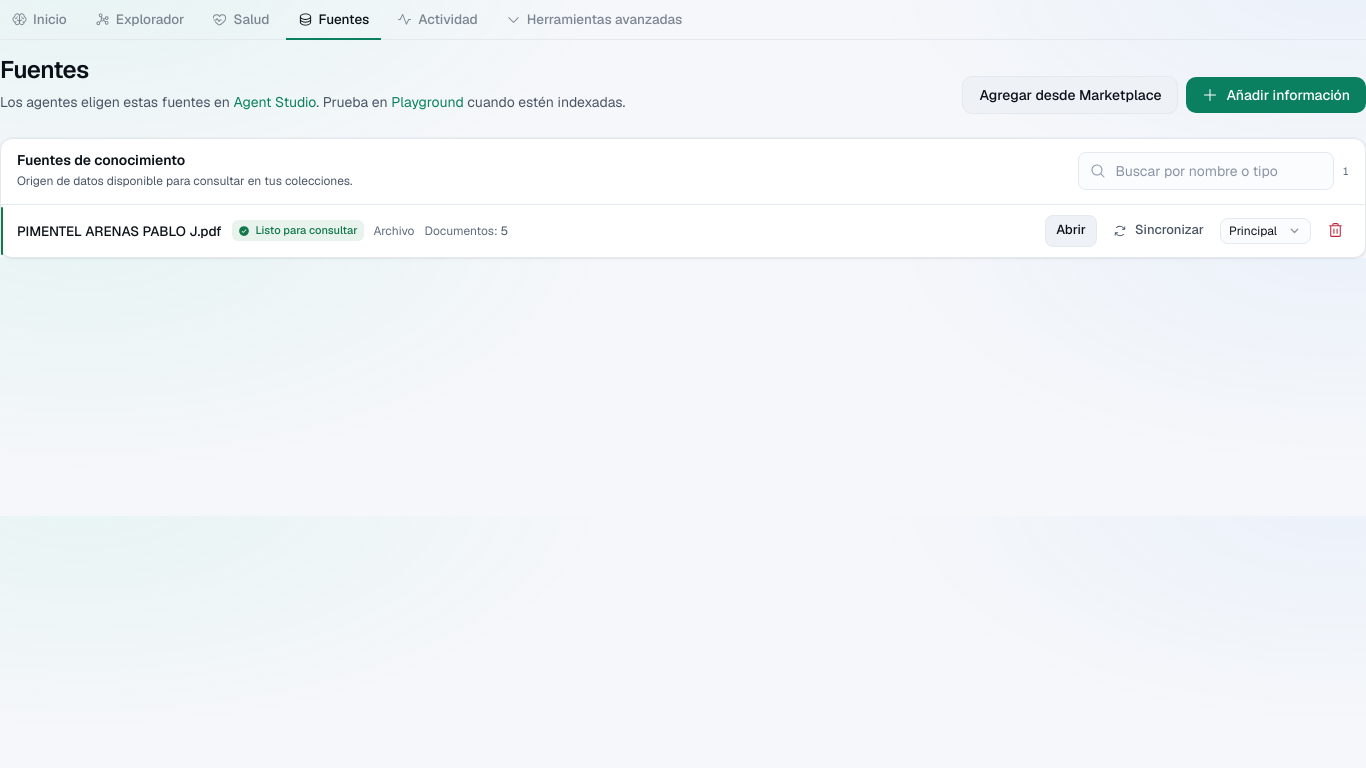
Test: KnowledgeSourcesPage › avisa qué agentes dejarán de usar la fuente al eliminarla
What coordinates should you click on to do the following:
click the button with test id "source-delete-src-1"
I would click on:
 (1335, 231)
Its box is top-left (1317, 213), bottom-right (1353, 249).
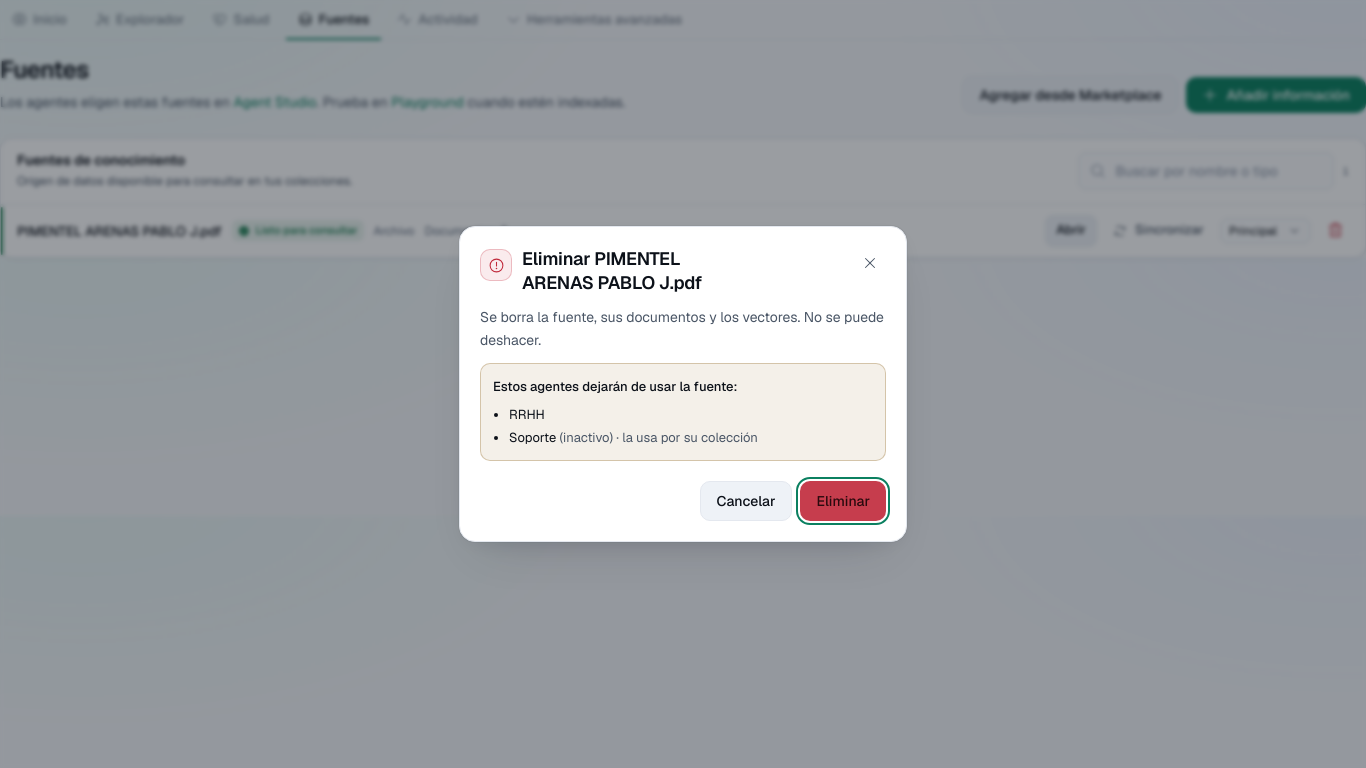
Expected: the text "Estos agentes dejarán de usar la fuente:" is shown, top-left (493, 378), bottom-right (738, 396)
Expected: the list item "RRHH" is shown, top-left (509, 406), bottom-right (545, 423)
Expected: the list item "Soporte (inactivo) · la usa por su colección" is shown, top-left (509, 429), bottom-right (758, 446)
